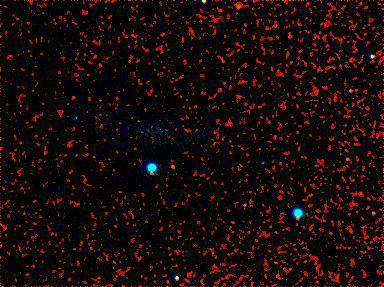star: (225, 0, 255, 24)
